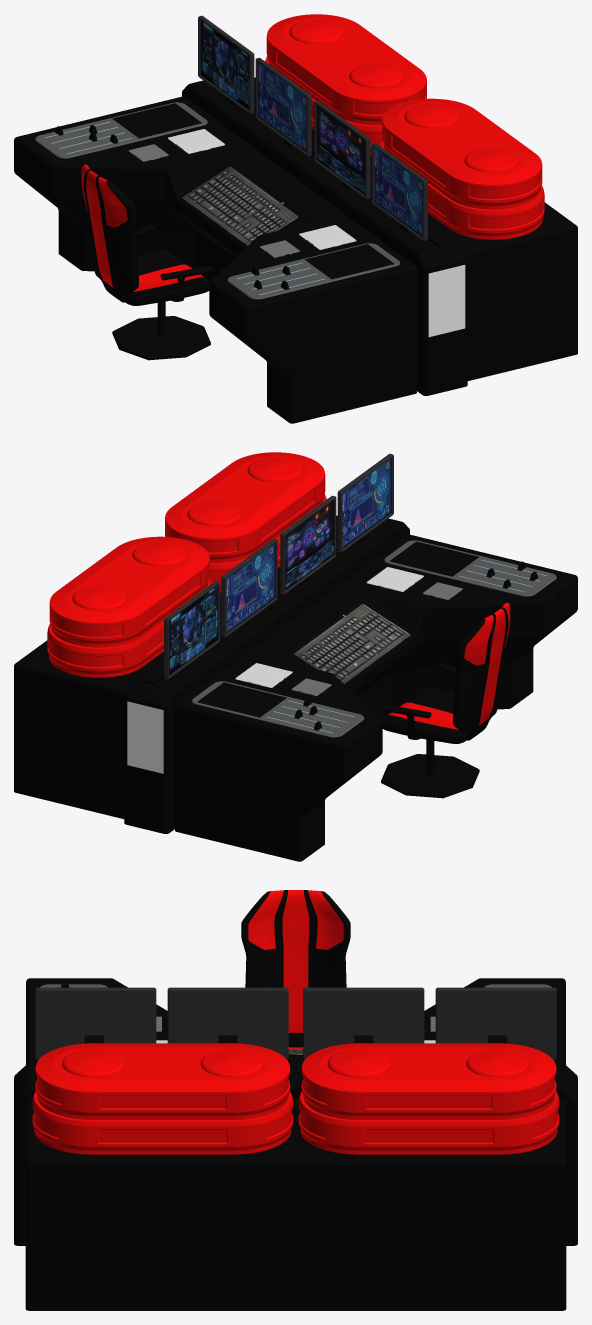
The model's file is prop_lab_table.glb.
The picture shows the model from 3 angles, top to bottom: view 1: azimuth 30°, elevation 25°; view 2: azimuth 150°, elevation 25°; view 3: azimuth 270°, elevation 25°; orthographic projection. The views are drawn at different scales.
Visible parts, largest first — view 1: Desk, Monitor Panel, Cooling, Control Panel, Back, Blender Bros Sci-Fi UI Pack_020_projected_.Blender Bros Sci-, Monitors, Cooling.001, Chair Base, Blender Bros Sci-Fi UI Pack_018_projected_.Blender Bros Sci-, Blender Bros Sci-Fi UI Pack_017_projected_.Blender Bros Sci-, Blender Bros Sci-Fi UI Pack_009_projected_.Blender Bros Sci- (+9 smaller); view 2: Desk, Monitor Panel, Cooling, Control Panel, Back, Blender Bros Sci-Fi UI Pack_020_projected_.Blender Bros Sci-, Monitors, Cooling.001, Chair Base, Blender Bros Sci-Fi UI Pack_018_projected_.Blender Bros Sci-, Blender Bros Sci-Fi UI Pack_017_projected_.Blender Bros Sci-, Blender Bros Sci-Fi UI Pack_009_projected_.Blender Bros Sci- (+9 smaller); view 3: Monitor Panel, Cooling, Monitors, Cooling.001, Back, Desk.
Boxes of the visible parts, <box> form: Desk: <box>14,96,416,423</box>; Monitor Panel: <box>182,77,577,395</box>; Cooling: <box>266,14,542,209</box>; Control Panel: <box>35,102,400,299</box>; Back: <box>81,164,138,302</box>; Blender Bros Sci-Fi UI Pack_020_projected_.Blender Bros Sci-: <box>182,165,300,245</box>; Monitors: <box>198,15,427,241</box>; Cooling.001: <box>265,56,544,239</box>; Chair Base: <box>112,301,210,360</box>; Blender Bros Sci-Fi UI Pack_018_projected_.Blender Bros Sci-: <box>201,20,249,109</box>; Blender Bros Sci-Fi UI Pack_017_projected_.Blender Bros Sci-: <box>258,62,306,151</box>; Blender Bros Sci-Fi UI Pack_009_projected_.Blender Bros Sci-: <box>374,147,422,236</box>; Desk: <box>175,534,577,861</box>; Monitor Panel: <box>14,515,409,833</box>; Cooling: <box>49,452,325,647</box>; Control Panel: <box>191,540,556,737</box>; Back: <box>453,602,510,740</box>; Blender Bros Sci-Fi UI Pack_020_projected_.Blender Bros Sci-: <box>292,602,410,683</box>; Monitors: <box>164,453,393,679</box>; Cooling.001: <box>47,494,326,677</box>; Chair Base: <box>381,739,479,798</box>; Blender Bros Sci-Fi UI Pack_018_projected_.Blender Bros Sci-: <box>169,585,217,674</box>; Blender Bros Sci-Fi UI Pack_017_projected_.Blender Bros Sci-: <box>226,543,274,632</box>; Blender Bros Sci-Fi UI Pack_009_projected_.Blender Bros Sci-: <box>342,458,390,547</box>; Monitor Panel: <box>14,1035,577,1310</box>; Cooling: <box>35,1043,556,1119</box>; Monitors: <box>35,987,556,1059</box>; Cooling.001: <box>32,1091,559,1154</box>; Back: <box>241,890,350,1047</box>; Desk: <box>26,978,565,1064</box>.
Size of the model in its own units: 9.42 by 5.01 by 10.74.
24 materials, 6 textured.
